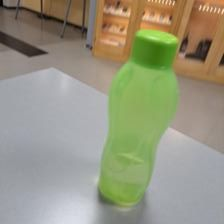bottle: (95, 27, 183, 208)
